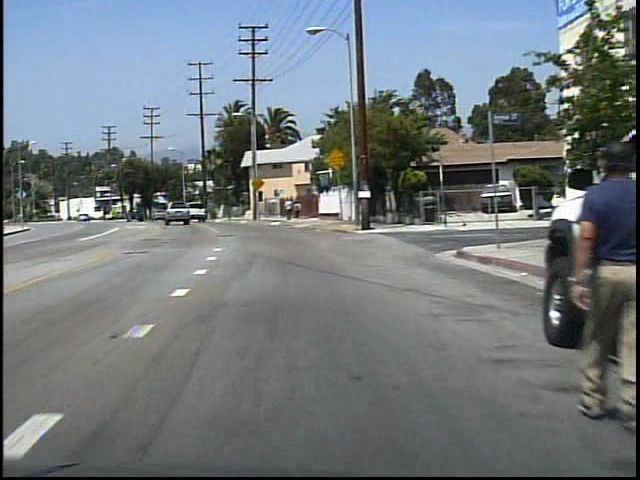person: (554, 138, 618, 415), (282, 197, 293, 222), (292, 199, 302, 221)
